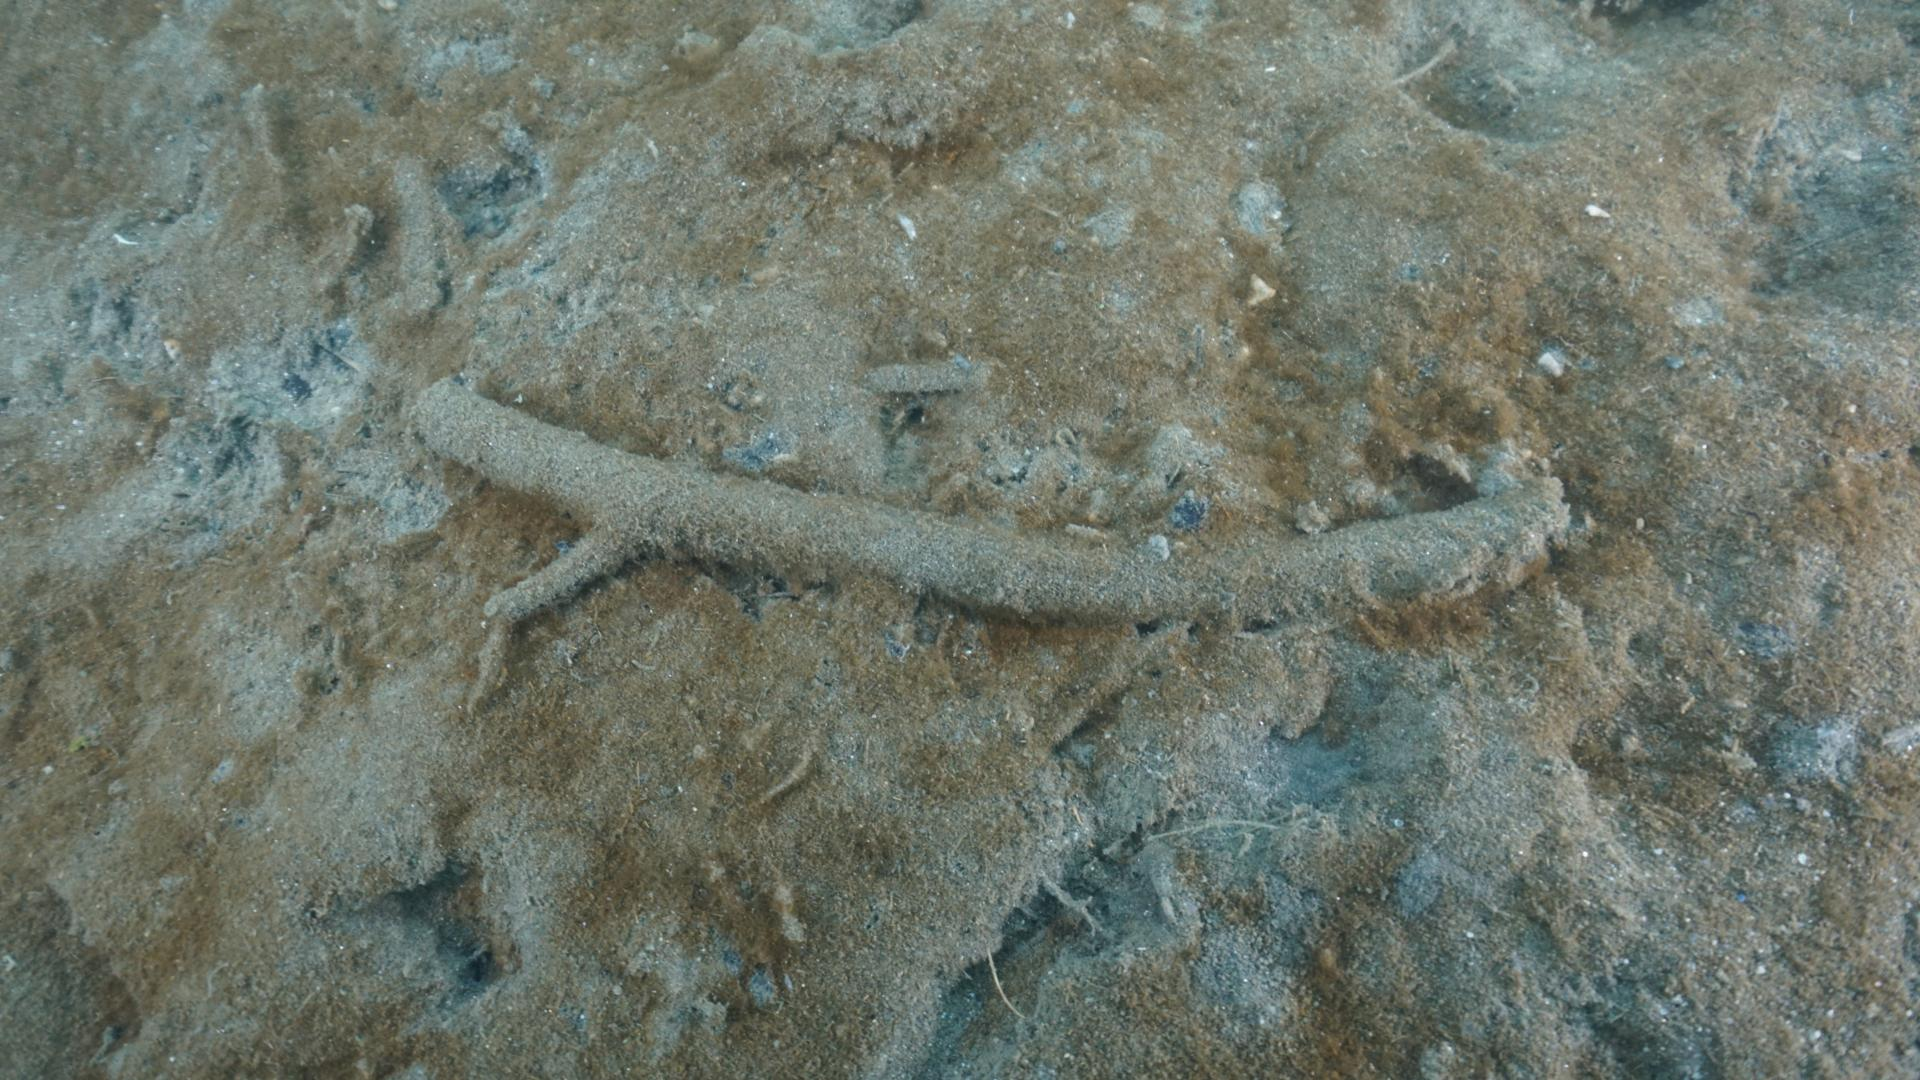wood: (406, 375, 1569, 719)
